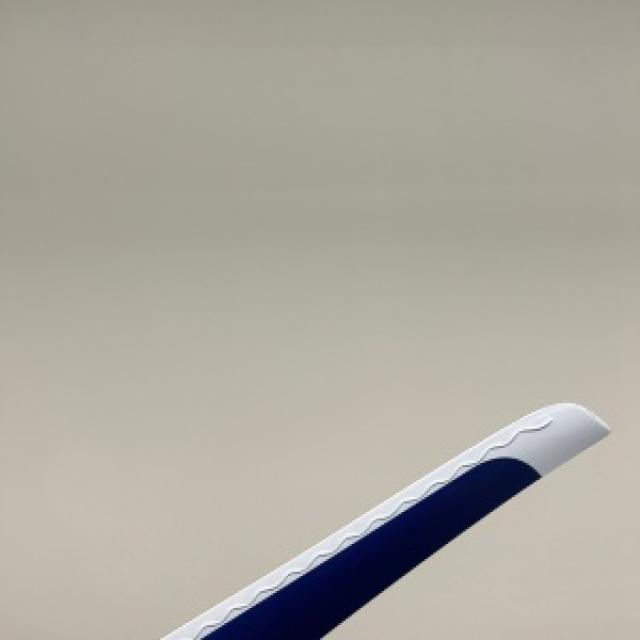healthy: (160, 401, 606, 638)
